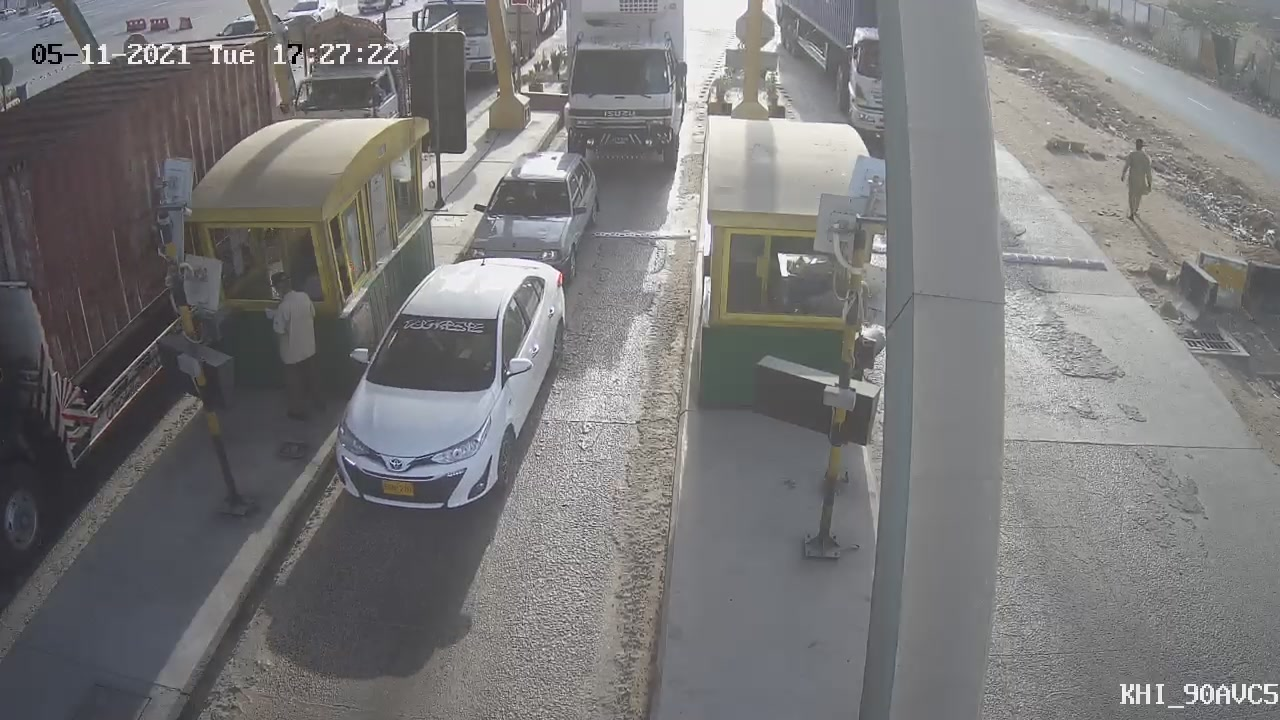F1: (303, 240, 585, 538), (444, 133, 614, 305)
